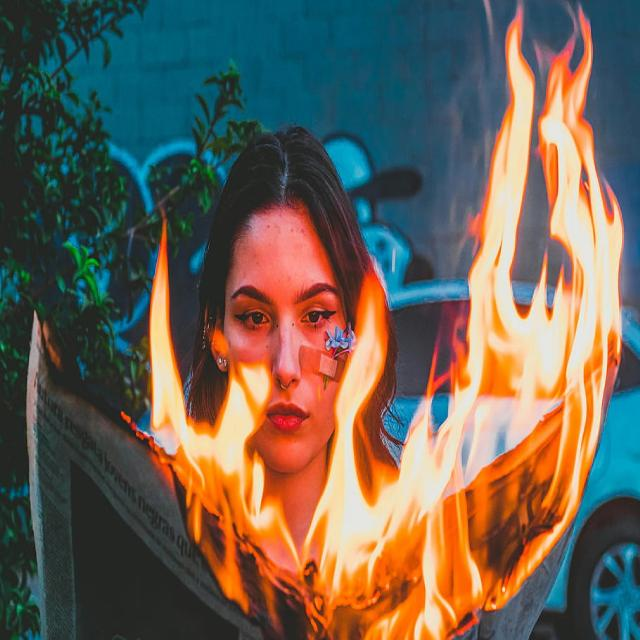fire: (456, 5, 535, 628), (537, 2, 623, 510), (301, 270, 389, 600), (392, 380, 454, 640), (186, 358, 275, 524), (149, 207, 187, 432)
